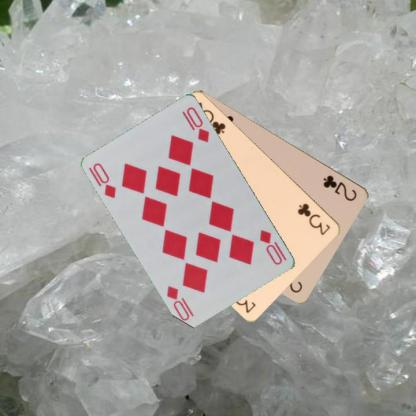10d: (86, 160, 118, 200), (257, 227, 288, 266)
2c: (321, 172, 358, 202)
3c: (294, 200, 332, 237)
